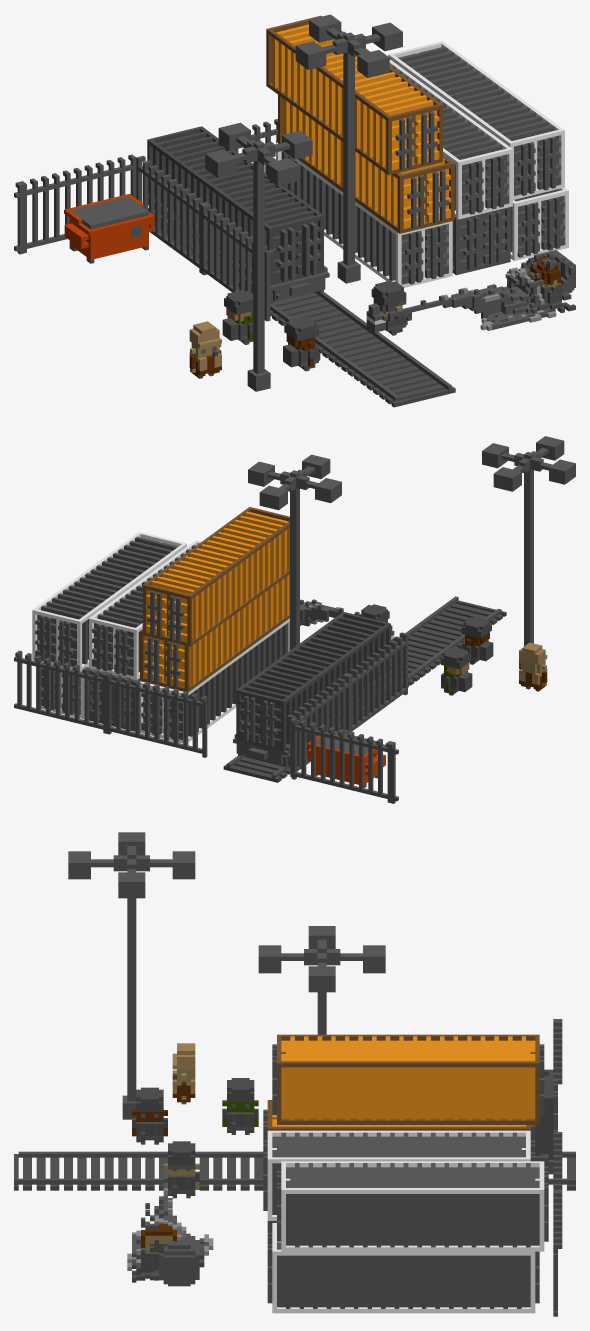
Rendered from scene_depot3.obj.
The picture shows the model from 3 angles, top to bottom: view 1: azimuth 30°, elevation 25°; view 2: azimuth 150°, elevation 25°; view 3: azimuth 270°, elevation 25°; orthographic projection. The views are drawn at different scales.
Bounding box in the file's own units: 120 × 64 × 124.
